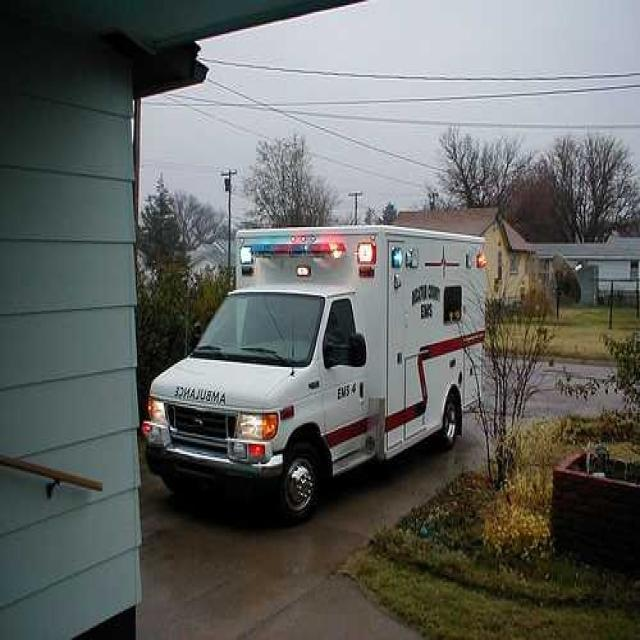ambulance: (140, 214, 494, 526)
